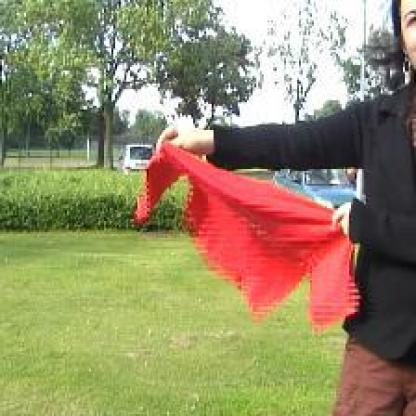other: (123, 127, 374, 348)
